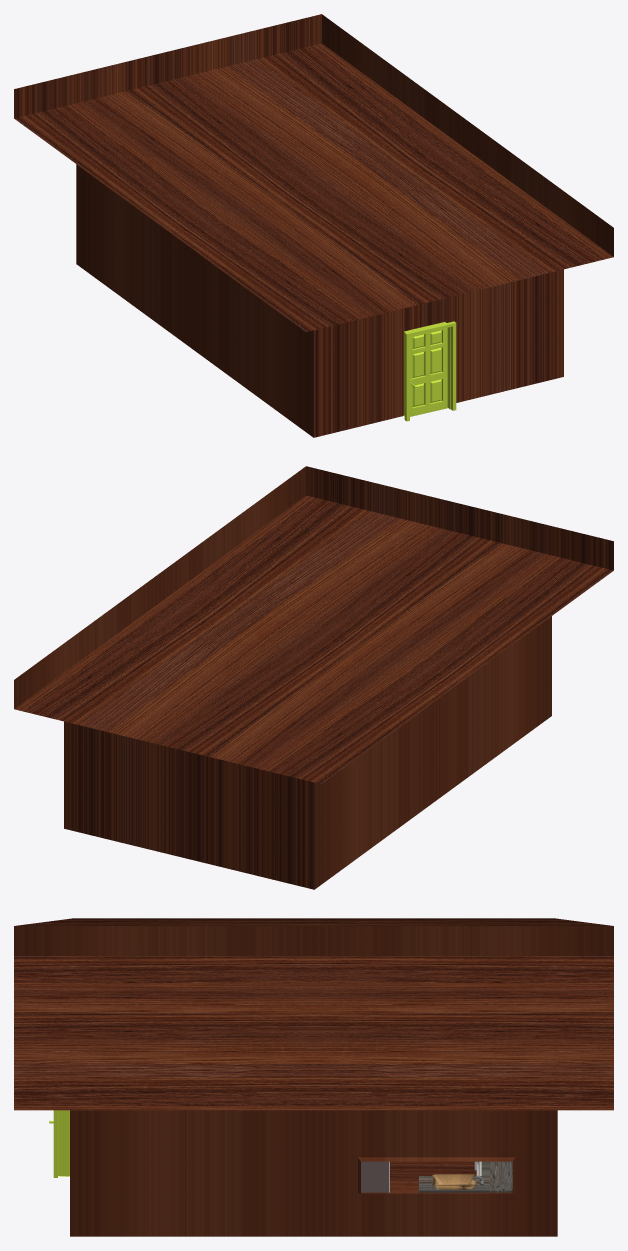
The model's file is doan12.glb.
3 renders of one model, top to bottom at view 1: azimuth 30°, elevation 25°; view 2: azimuth 150°, elevation 25°; view 3: azimuth 270°, elevation 25°, orthographic. The views are drawn at different scales.
Parts seen in each view (by area): view 1: House, basic_door; view 2: House; view 3: House, Cube, basic_door, tu lanh, Plane.
Boxes of the visible parts, x1,y1,x2,y2 form: House: [14, 14, 613, 437]; basic_door: [403, 321, 456, 421]; House: [14, 466, 613, 889]; House: [14, 918, 613, 1236]; Cube: [419, 1161, 512, 1192]; basic_door: [49, 1110, 69, 1177]; tu lanh: [361, 1161, 389, 1192]; Plane: [432, 1174, 476, 1189].
Bounding box in the file's own units: 22.4 × 12.9 × 36.81.
Materials: 31 (8 with a texture image).
